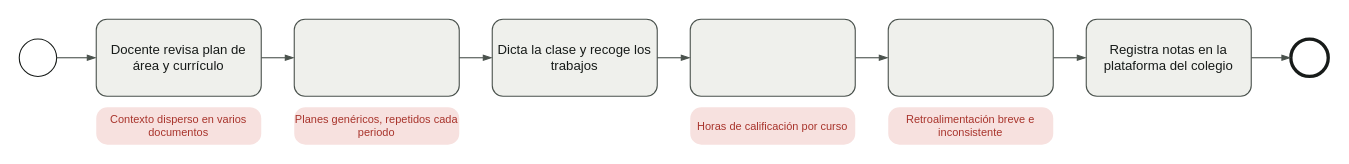
Some shapes in this 1349 by 164 pixel diagram are drawn without their labels. The centre of each missing label's shape, as x and y in pixels:
Califica cada trabajo con la rúbrica: the point at 772,57
Redacta el plan de clase en una plantilla: the point at 376,57
Redacta la retroalimentación a mano: the point at 970,57
